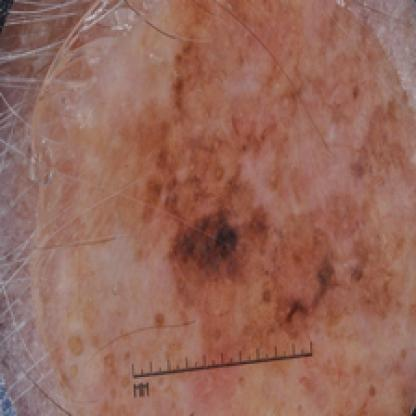malignant: (134, 113, 358, 322)
